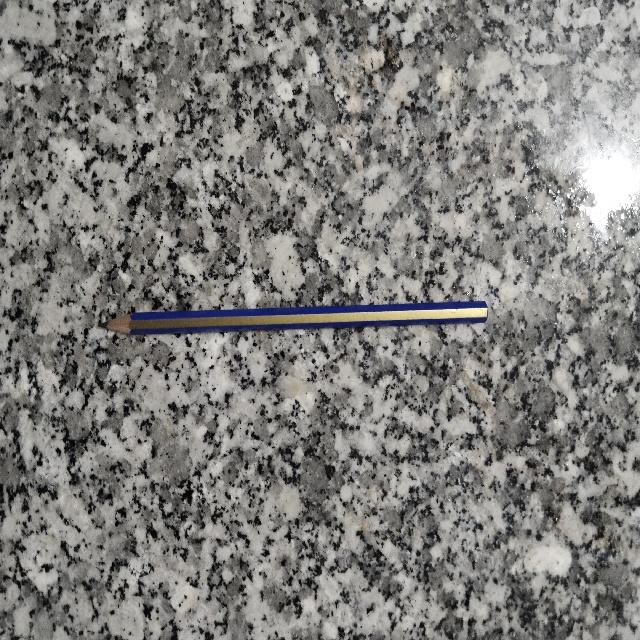pencil: (100, 302, 487, 334)
